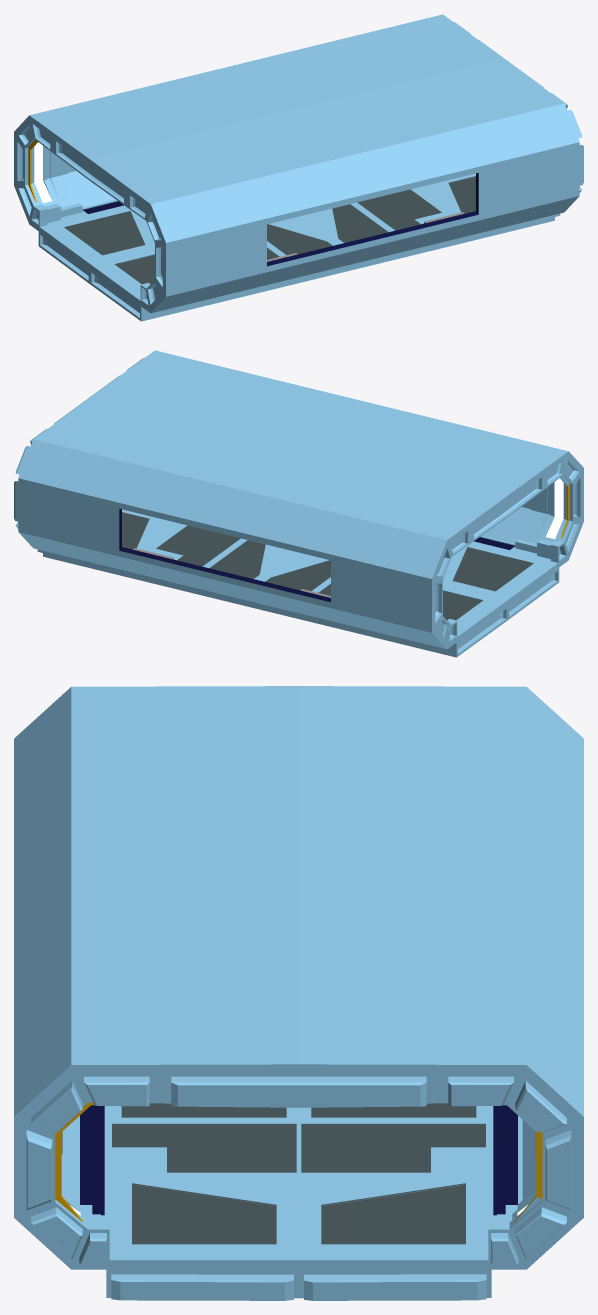
The model's file is scifi_corridor.glb.
3 renders of one model, top to bottom at view 1: azimuth 30°, elevation 25°; view 2: azimuth 150°, elevation 25°; view 3: azimuth 270°, elevation 25°, orthographic. The views are drawn at different scales.
Parts seen in each view (by area): view 1: Cube.016; view 2: Cube.016; view 3: Cube.016.
Part boxes in pixels (x1=…): Cube.016: x1=14, y1=14, x2=583, y2=321; Cube.016: x1=14, y1=350, x2=583, y2=657; Cube.016: x1=14, y1=686, x2=583, y2=1300.
Bounding box in the file's own units: 14.03 × 3.97 × 8.76.
